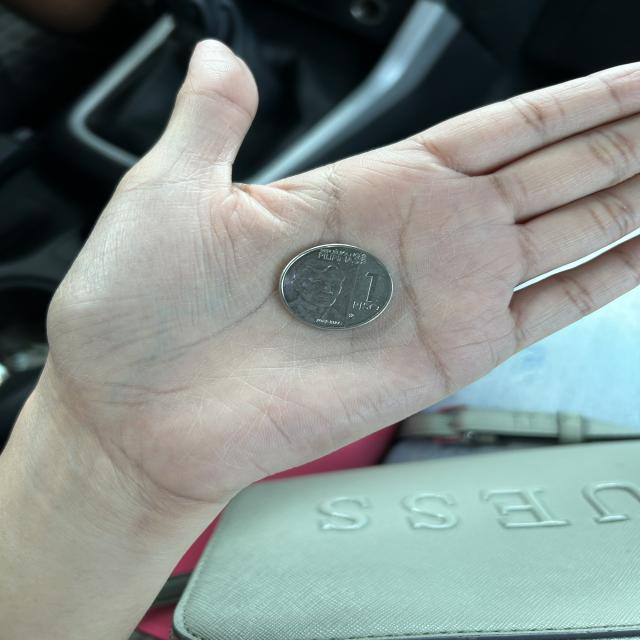1_New_Front: (345, 271, 384, 316)
